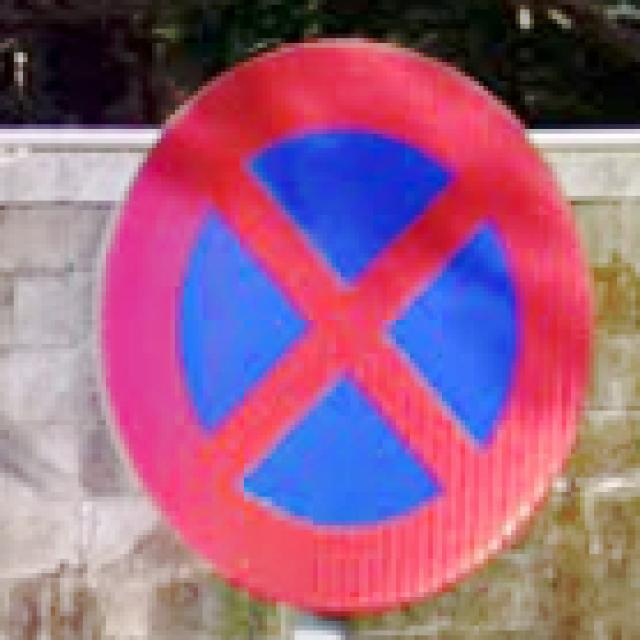nostop: (87, 34, 598, 616)
